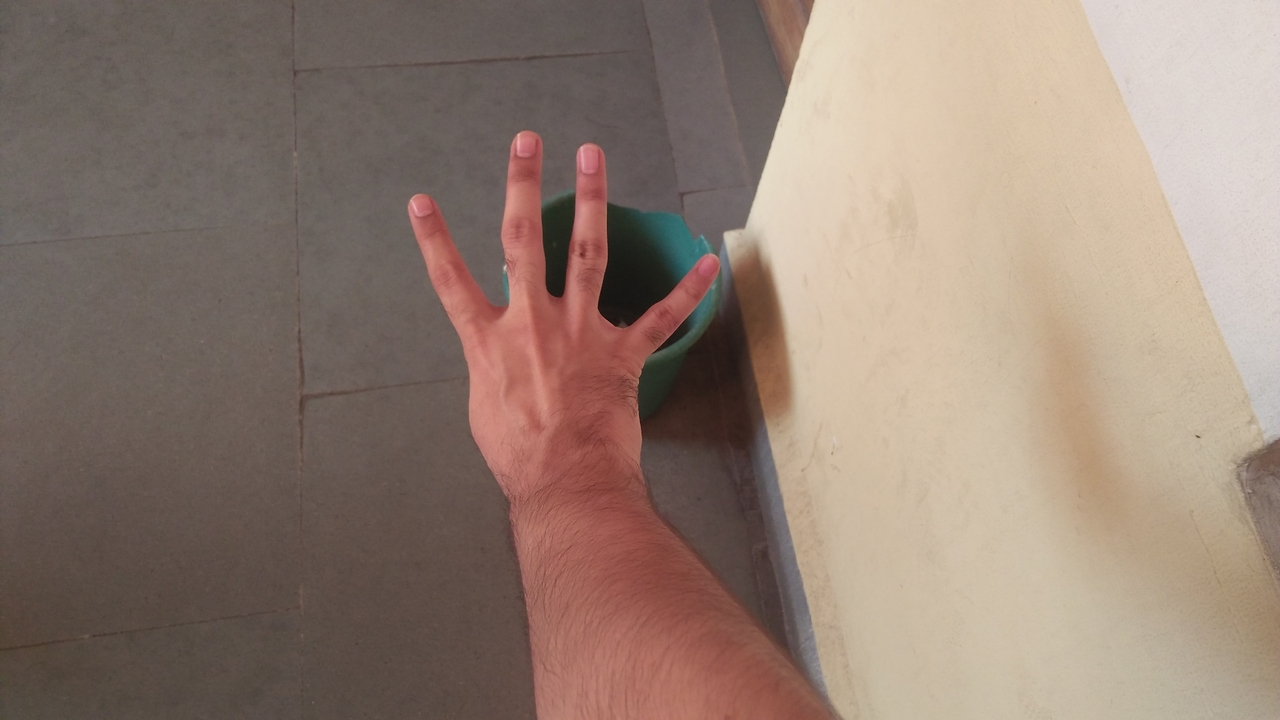fingertip: (392, 182, 448, 230), (672, 246, 726, 290), (562, 136, 614, 176), (500, 124, 546, 162)
